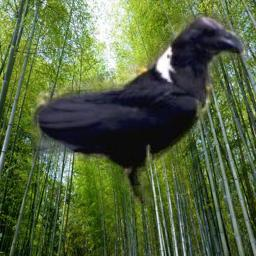Crow: (31, 13, 248, 206)
